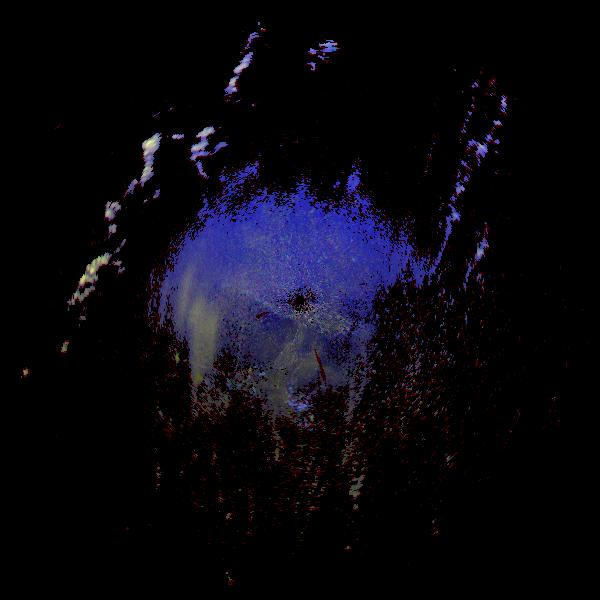roost: (167, 353, 182, 368)
